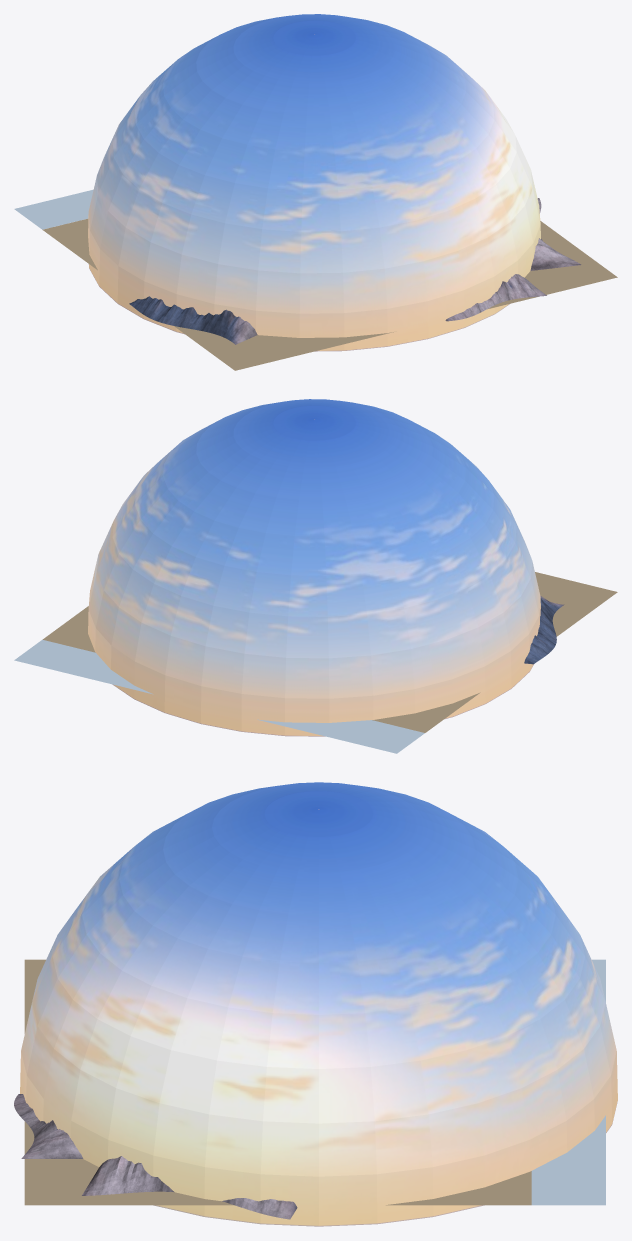
The model's file is lugar-cnosos-ciudad.glb.
The picture shows the model from 3 angles, top to bottom: view 1: azimuth 30°, elevation 25°; view 2: azimuth 150°, elevation 25°; view 3: azimuth 270°, elevation 25°; orthographic projection. The views are drawn at different scales.
Visible parts, largest first — view 1: planoC, vertT; view 2: planoC, vertT; view 3: planoC, vertT.
Boxes of the visible parts, x1,y1,x2,y2 form: planoC: [14, 14, 617, 370]; vertT: [129, 198, 581, 344]; planoC: [14, 399, 617, 753]; vertT: [524, 596, 564, 664]; planoC: [20, 782, 617, 1226]; vertT: [14, 1094, 297, 1219].
Bounding box in the file's own units: 6963 × 3530 × 6648.
Materials: 22 (17 with a texture image).
